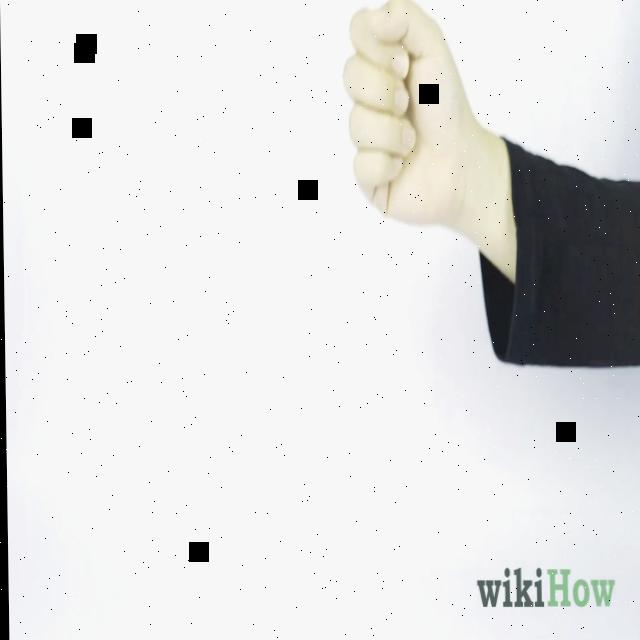Rock: (344, 3, 472, 233)
